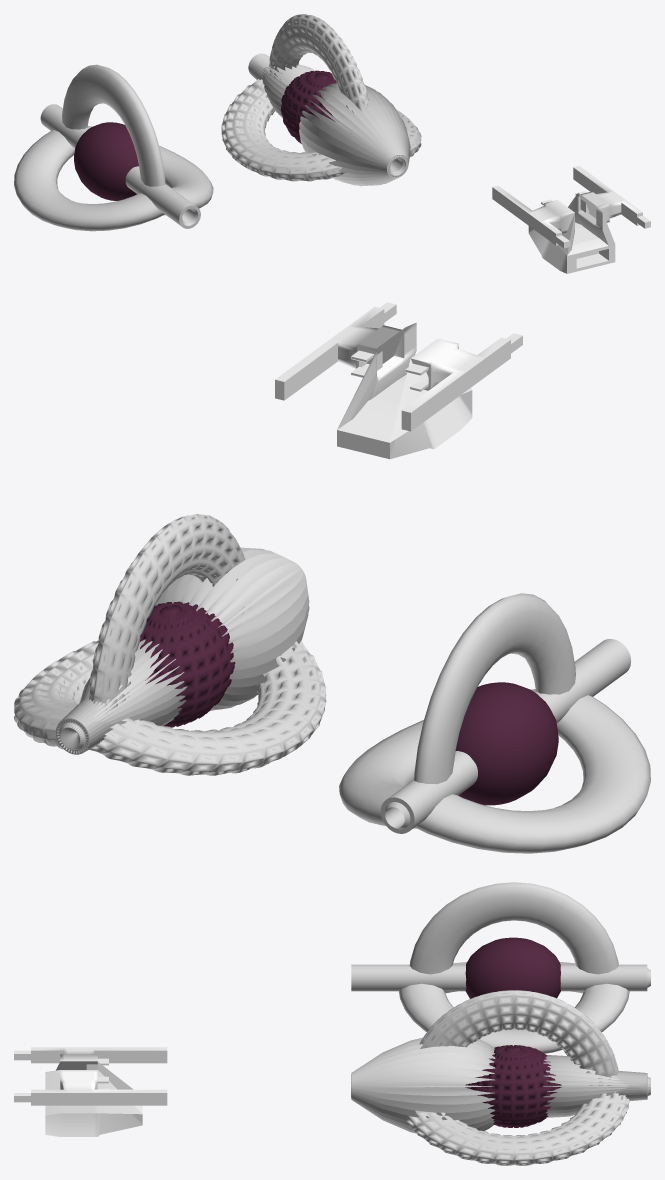
File: ENEMIGOS Y UPGRADE 1.fbx
3 renders of one model, top to bottom at view 1: azimuth 30°, elevation 25°; view 2: azimuth 150°, elevation 25°; view 3: azimuth 270°, elevation 25°, orthographic. The views are drawn at different scales.
Visible parts, largest first — view 1: Tubo_1, Cubo_1, Toroide, Toroide_3, Toroide_1, Toroide_4, Esfera, Tubo, Esfera_1, Toroide_2, Toroide_5; view 2: Cubo_1, Tubo_1, Toroide, Toroide_3, Toroide_1, Toroide_4, Esfera, Esfera_1, Tubo, Toroide_2, Toroide_5; view 3: Tubo_1, Toroide_1, Cubo_1, Toroide_4, Toroide_5, Esfera_1, Esfera, Tubo, Toroide_2.
Part boxes in pixels (x1,y1,x2,y2): Tubo_1: (248,53,410,186); Cubo_1: (492,166,650,273); Toroide: (14,130,164,231); Toroide_3: (221,79,345,181); Toroide_1: (62,64,165,186); Toroide_4: (269,14,369,136); Esfera: (74,122,138,200); Tubo: (40,104,200,228); Esfera_1: (280,70,336,143); Toroide_2: (87,126,213,215); Toroide_5: (396,109,421,156); Cubo_1: (275,302,522,459); Tubo_1: (56,547,309,754); Toroide: (415,695,650,853); Toroide_3: (89,641,326,775); Toroide_1: (414,593,575,784); Toroide_4: (88,514,250,710); Esfera: (455,682,558,805); Esfera_1: (140,601,235,727); Tubo: (380,639,631,833); Toroide_2: (339,689,535,828); Toroide_5: (14,640,98,750); Tubo_1: (351,1037,650,1133); Toroide_1: (409,882,618,974); Cubo_1: (14,1047,167,1136); Toroide_4: (419,990,618,1087); Toroide_5: (406,1092,629,1165); Esfera_1: (465,1045,561,1127); Esfera: (465,937,560,998); Tubo: (351,964,650,991); Toroide_2: (399,983,629,1053).
Bounding box in the file's own units: 1129 × 373 × 1505.
